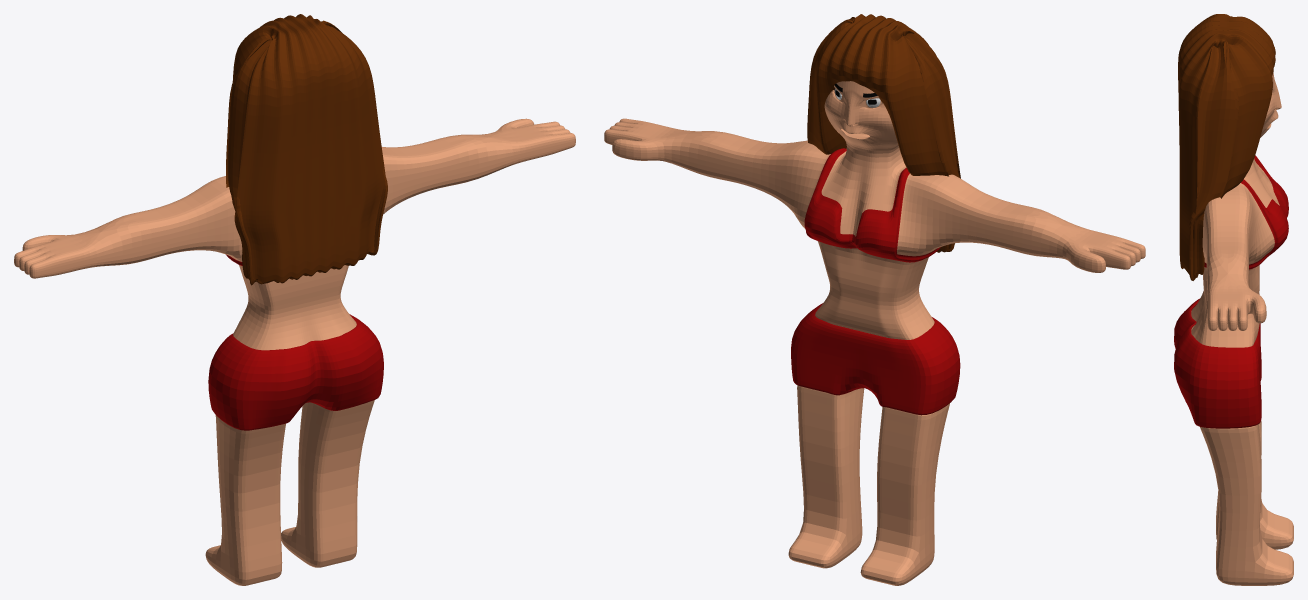
The model's file is FNPC2.fbx.
3 renders of one model, left to right at view 1: azimuth 30°, elevation 25°; view 2: azimuth 150°, elevation 25°; view 3: azimuth 270°, elevation 25°, orthographic. The views are drawn at different scales.
Visible parts, largest first — view 1: FNPC2; view 2: FNPC2; view 3: FNPC2.
Boxes of the visible parts, x1,y1,x2,y2 form: FNPC2: [14, 14, 575, 585]; FNPC2: [604, 14, 1145, 585]; FNPC2: [1174, 14, 1293, 585].
Bounding box in the file's own units: 165 × 160 × 32.34.
